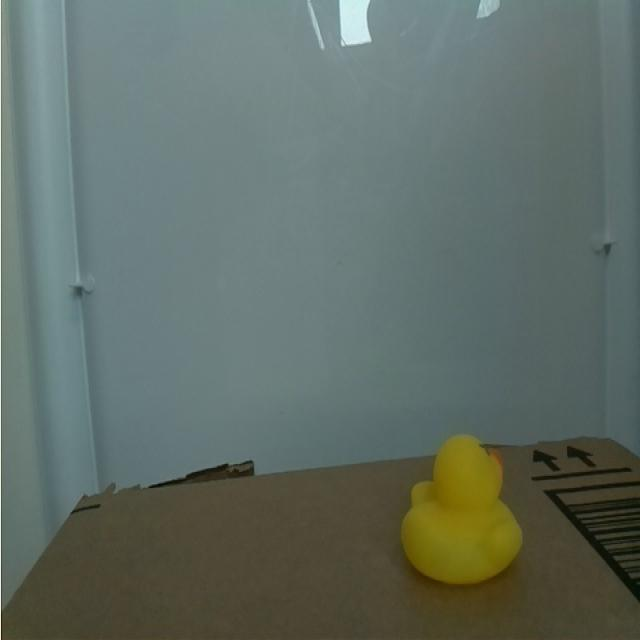duck_regular: (372, 408, 546, 623)
